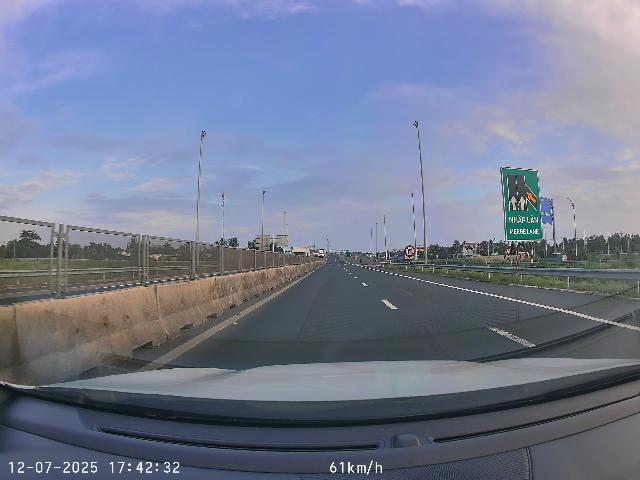123b-cam-re-phai: (404, 245, 416, 257)
